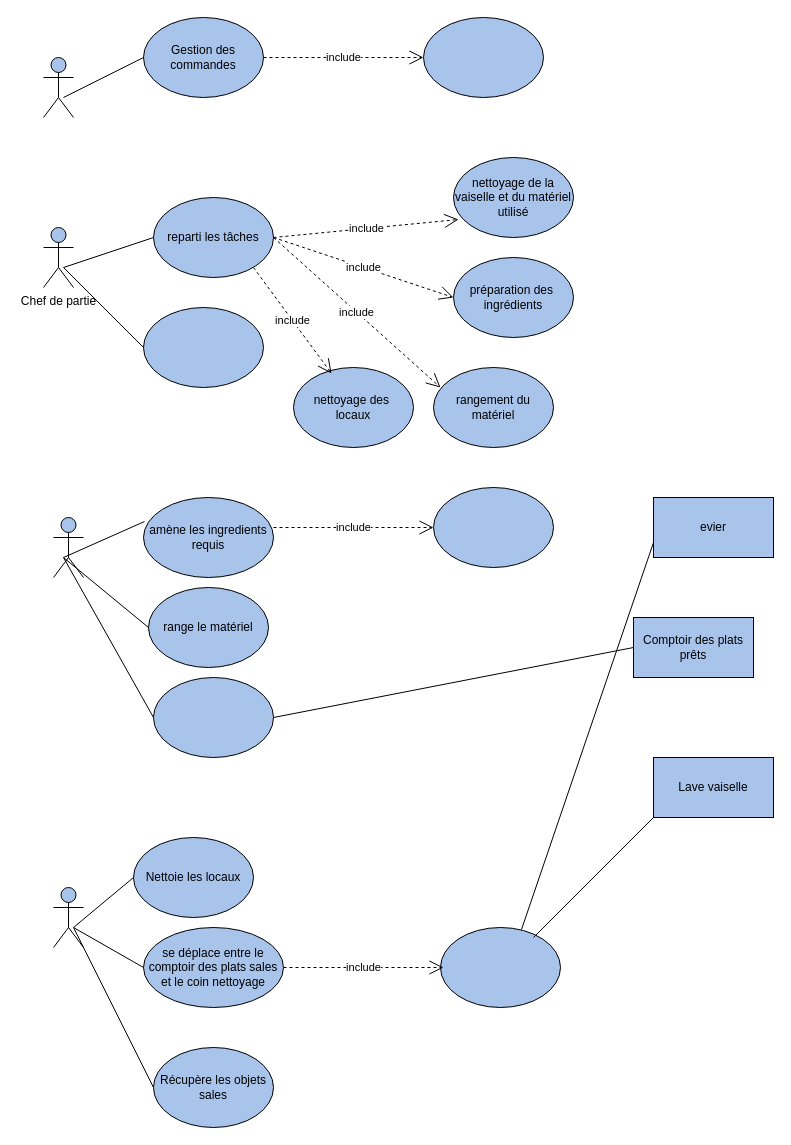
Some shapes in this 791 by 1145 pixel diagram are drawn without their labels. The shapes that lost their labels are listed below. From the top down, each one's centre as x and y in pixels, then its label:
the point at 483,57: donne les recettes aux chefs de parties
the point at 58,87: Chef de cuisine
the point at 203,347: Prépare les plats
the point at 68,547: Commis
the point at 493,527: tri et preparation des ingrédients
the point at 213,717: dépose les plats en attente de service
the point at 68,917: Plongeur
the point at 500,967: Lave les objets sales
